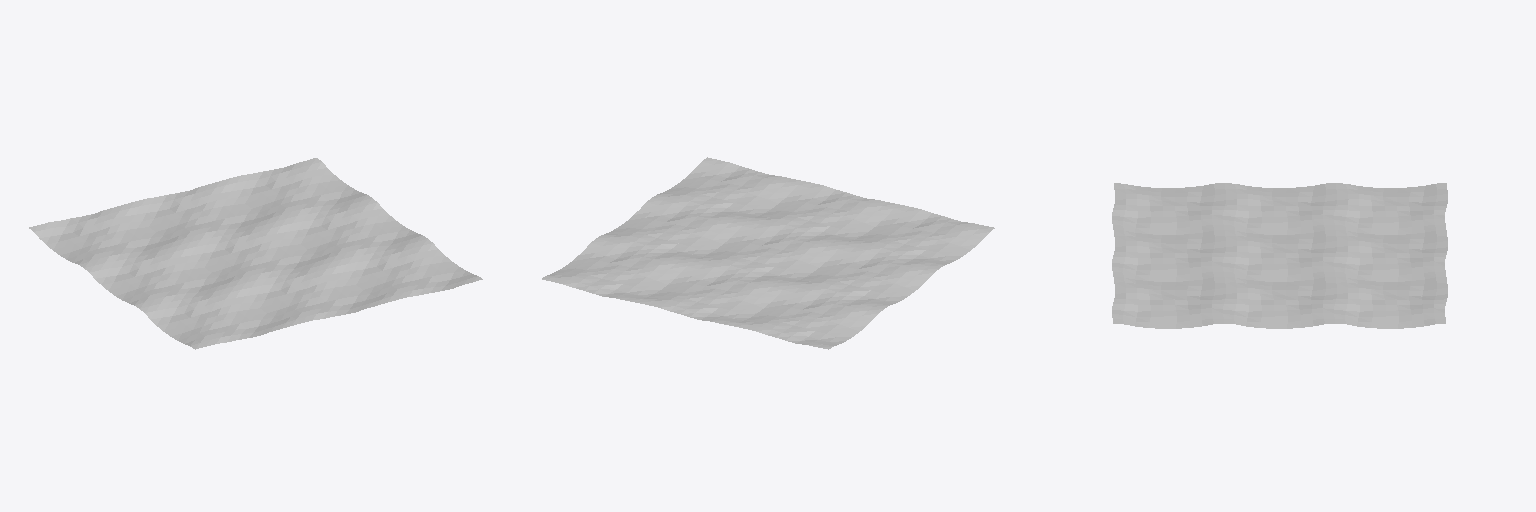
The model's file is ocean_000040.obj.
3 views of the same model, side by side, from view 1: azimuth 30°, elevation 25°; view 2: azimuth 150°, elevation 25°; view 3: azimuth 270°, elevation 25° (orthographic).
Visible parts, largest first — view 1: Ocean_Plan.001; view 2: Ocean_Plan.001; view 3: Ocean_Plan.001.
Part boxes in pixels (bbox=[...]): Ocean_Plan.001: bbox=[29, 158, 482, 349]; Ocean_Plan.001: bbox=[542, 157, 994, 349]; Ocean_Plan.001: bbox=[1112, 183, 1447, 328].
Bounding box in the file's own units: 109061 × 1796 × 110022.